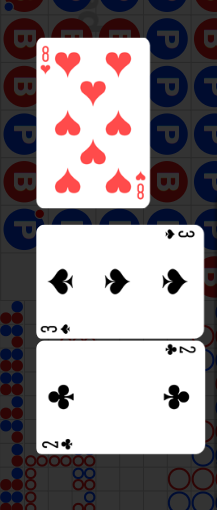2C: (41, 437, 76, 451)
3S: (163, 228, 196, 241)
8H: (40, 45, 53, 76)
